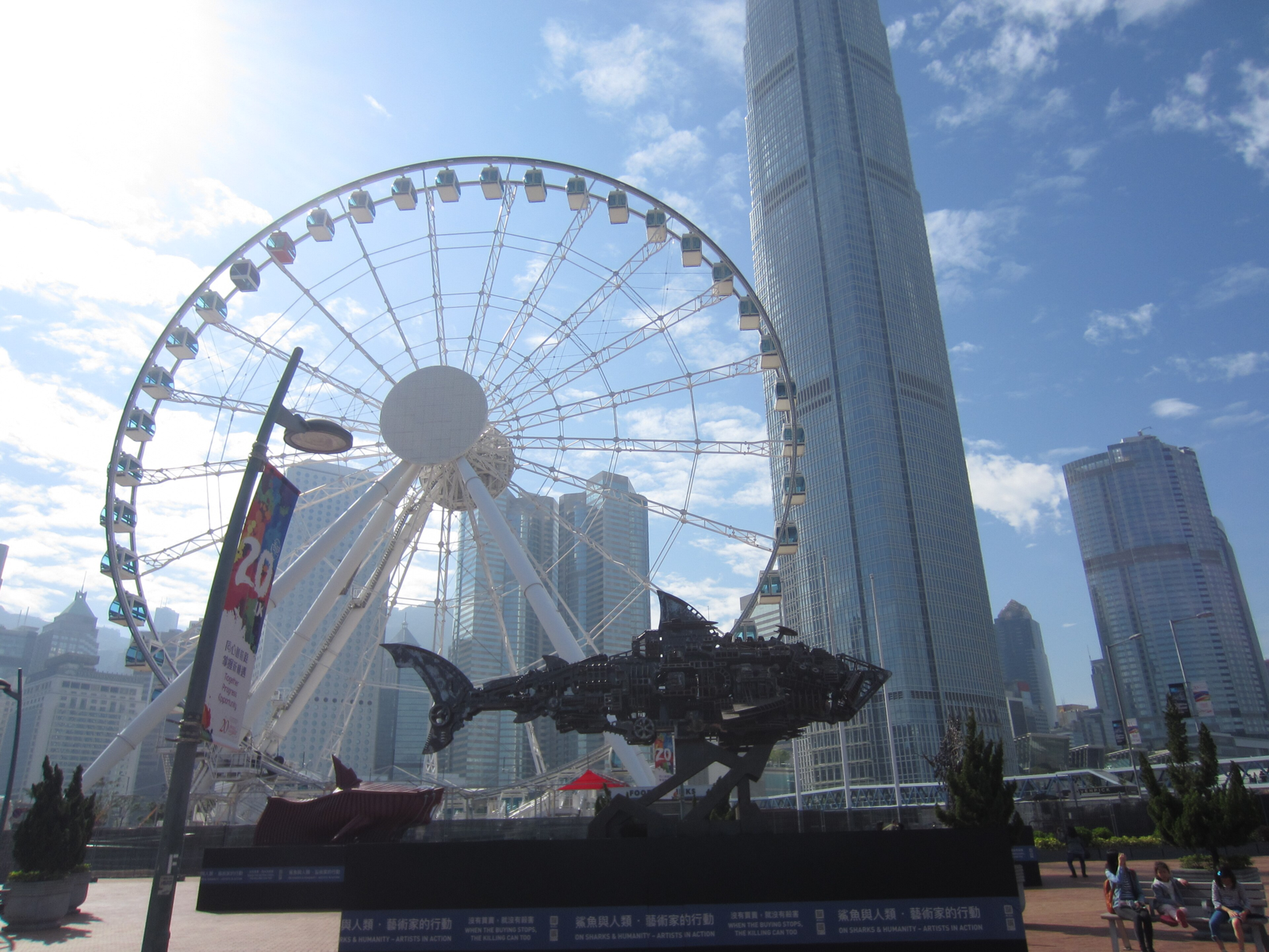fachada: (743, 0, 1028, 812), (1063, 415, 1269, 767), (238, 426, 402, 807), (473, 479, 664, 799), (0, 542, 161, 846)
poste: (159, 307, 354, 952)
